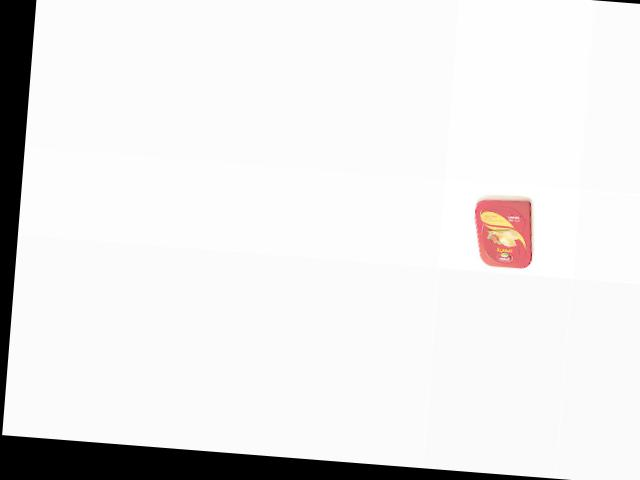cheese: (470, 193, 539, 273)
